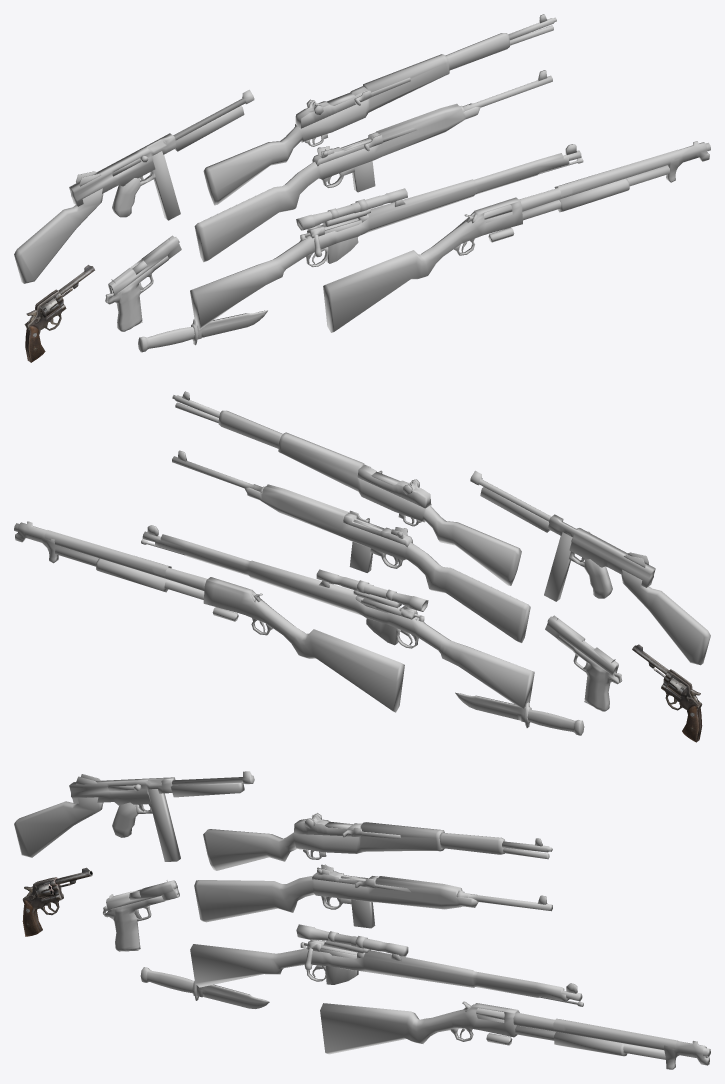
File: US_Army_pack (1).fbx
3 renders of one model, top to bottom at view 1: azimuth 30°, elevation 25°; view 2: azimuth 150°, elevation 25°; view 3: azimuth 330°, elevation 25°, orthographic.
Parts seen in each view (by area): view 1: lee enfield, 1987, M1 Garand, M1 Carabine, M1A1, Kabar, Model 10, 1911, pump, Slide, magazine, magazine.001; view 2: lee enfield, 1987, M1 Garand, M1 Carabine, M1A1, Kabar, Model 10, 1911, Slide, magazine, pump, magazine.001; view 3: lee enfield, 1987, M1 Carabine, M1 Garand, M1A1, Kabar, 1911, Model 10, magazine, pump, Slide, magazine.001 (+1 smaller).
Part boxes in pixels (bbox=[...]): lee enfield: bbox=[190, 144, 583, 329]; 1987: bbox=[323, 141, 710, 332]; M1 Garand: bbox=[203, 14, 556, 205]; M1 Carabine: bbox=[194, 70, 552, 262]; M1A1: bbox=[14, 89, 254, 283]; Kabar: bbox=[138, 310, 267, 352]; Model 10: bbox=[24, 265, 94, 362]; 1911: bbox=[108, 237, 179, 331]; pump: bbox=[471, 178, 629, 223]; Slide: bbox=[108, 235, 181, 295]; magazine: bbox=[152, 151, 180, 220]; magazine.001: bbox=[352, 161, 375, 192]; lee enfield: bbox=[141, 525, 534, 708]; 1987: bbox=[14, 521, 404, 712]; M1 Garand: bbox=[172, 391, 521, 585]; M1 Carabine: bbox=[172, 450, 530, 642]; M1A1: bbox=[470, 470, 710, 665]; Kabar: bbox=[455, 692, 584, 735]; Model 10: bbox=[632, 644, 702, 742]; 1911: bbox=[547, 616, 619, 711]; Slide: bbox=[545, 615, 618, 674]; magazine: bbox=[544, 532, 572, 601]; pump: bbox=[96, 558, 259, 602]; magazine.001: bbox=[349, 542, 372, 572]; lee enfield: bbox=[190, 924, 583, 1006]; 1987: bbox=[320, 1003, 710, 1069]; M1 Carabine: bbox=[194, 864, 552, 922]; M1 Garand: bbox=[203, 813, 552, 870]; M1A1: bbox=[14, 771, 254, 857]; Kabar: bbox=[140, 967, 269, 1008]; 1911: bbox=[104, 882, 178, 951]; Model 10: bbox=[22, 867, 92, 936]; magazine: bbox=[148, 789, 180, 861]; pump: bbox=[465, 1004, 627, 1056]; Slide: bbox=[106, 880, 179, 909]; magazine.001: bbox=[351, 899, 375, 928].
Bounding box in the file's own units: 3541 × 1307 × 112.
